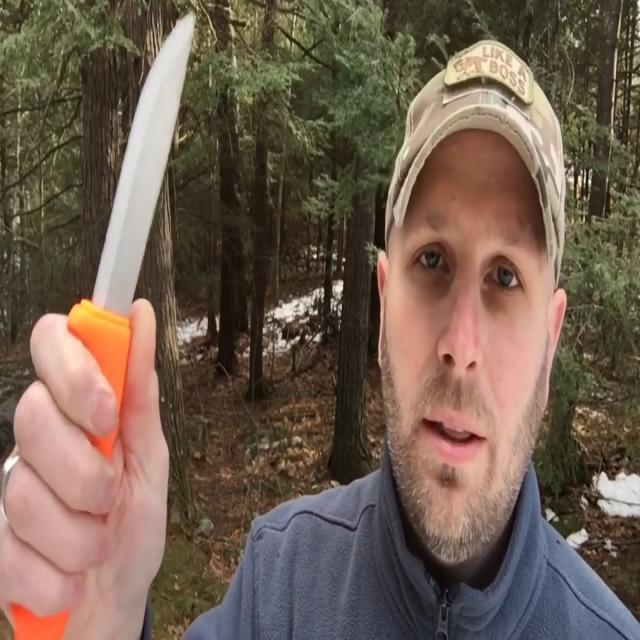knife: (72, 2, 208, 421)
